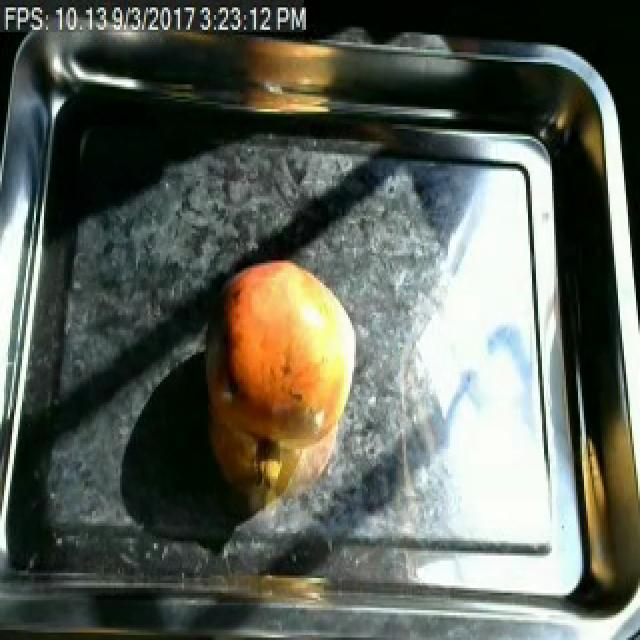fruit: (194, 243, 370, 471)
